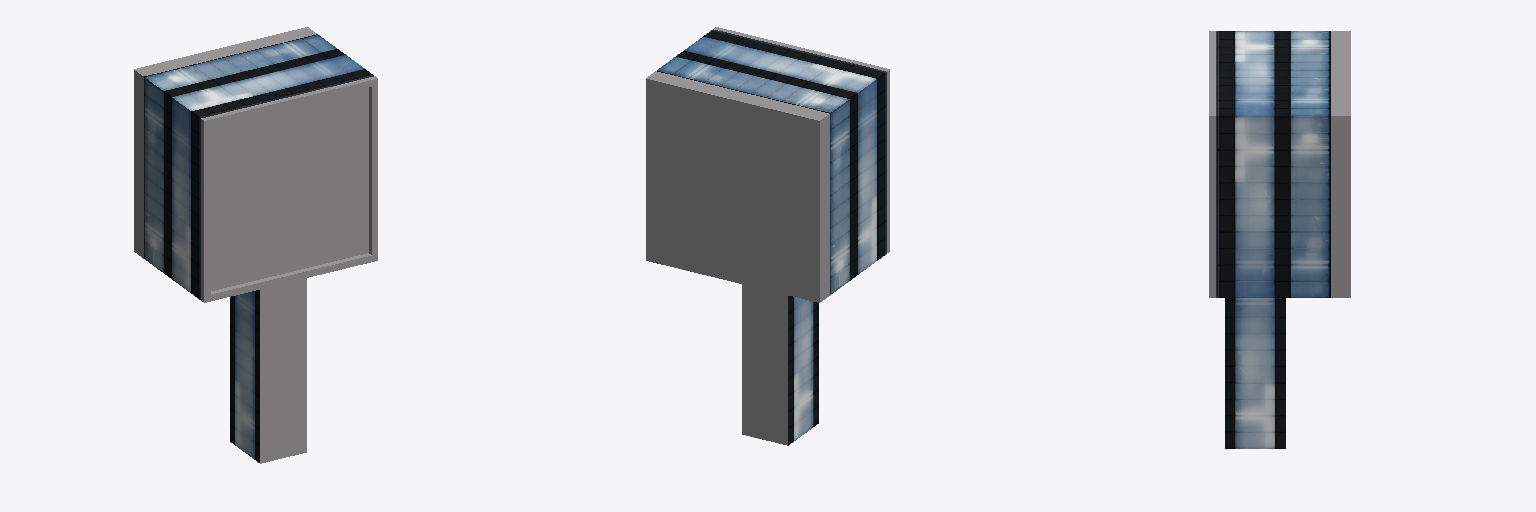
The picture shows the model from 3 angles: view 1: azimuth 30°, elevation 25°; view 2: azimuth 150°, elevation 25°; view 3: azimuth 270°, elevation 25°; orthographic projection.
Parts seen in each view (by area): view 1: object_12, object_10, object_9, object_2, object_11, object_4, object_5; view 2: object_5, object_10, object_9, object_3, object_4, object_11; view 3: object_8, object_9, object_1, object_5, object_11.
Boxes of the visible parts, <box> form: object_12: <box>211,88,368,290</box>; object_10: <box>144,77,200,299</box>; object_9: <box>144,34,373,117</box>; object_2: <box>260,278,306,463</box>; object_11: <box>201,76,377,302</box>; object_4: <box>230,290,259,462</box>; object_5: <box>134,27,316,258</box>; object_5: <box>646,71,829,302</box>; object_10: <box>830,72,886,294</box>; object_9: <box>657,29,885,113</box>; object_3: <box>742,284,787,445</box>; object_4: <box>788,296,818,445</box>; object_11: <box>714,27,889,252</box>; object_8: <box>1216,116,1330,297</box>; object_9: <box>1216,31,1330,115</box>; object_1: <box>1225,298,1285,448</box>; object_5: <box>1331,31,1350,297</box>; object_11: <box>1209,31,1215,297</box>.
Bounding box in the file's own units: 3.19 × 6.39 × 2.25.
3 materials, 1 textured.